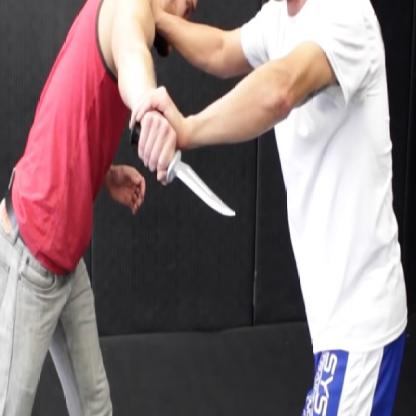knife: (124, 108, 241, 228)
